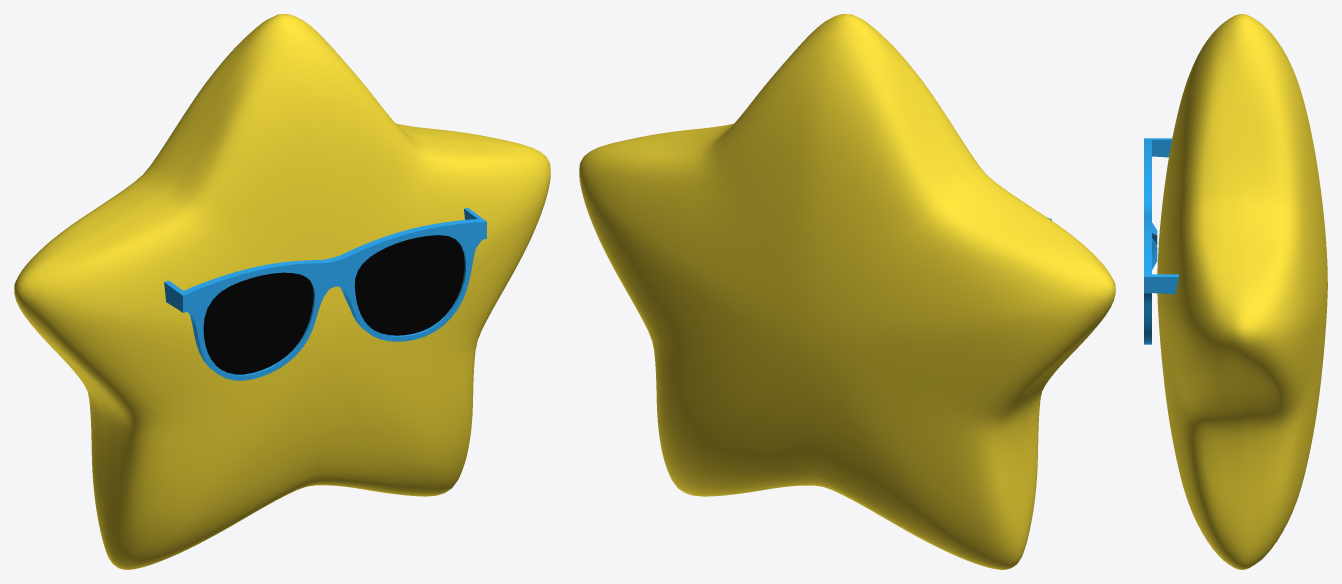
File: Star.fbx
The picture shows the model from 3 angles, left to right: view 1: azimuth 30°, elevation 25°; view 2: azimuth 150°, elevation 25°; view 3: azimuth 270°, elevation 25°; orthographic projection. The views are drawn at different scales.
Visible parts, largest first — view 1: star; view 2: star; view 3: star.
Boxes of the visible parts, left/top/right/bottom form: star: left=14, top=14, right=550, bottom=569; star: left=579, top=14, right=1115, bottom=569; star: left=1144, top=14, right=1327, bottom=569.
Size of the model in its own units: 22.79 by 21.13 by 7.31.
